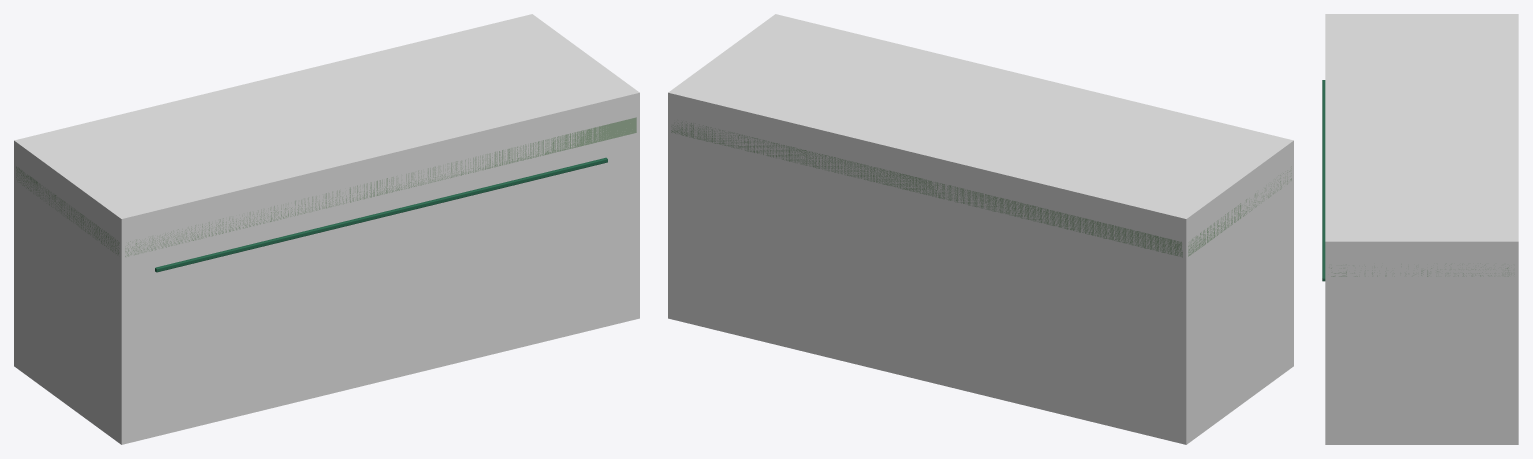
File: checkout-counter_retail.glb
The picture shows the model from 3 angles, left to right: view 1: azimuth 30°, elevation 25°; view 2: azimuth 150°, elevation 25°; view 3: azimuth 270°, elevation 25°; orthographic projection. The views are drawn at different scales.
Visible parts, largest first — view 1: COL_checkout-counter, MESH_Worktop, MESH_TierTrim_01; view 2: COL_checkout-counter, MESH_Worktop; view 3: COL_checkout-counter, MESH_TierTrim_01, MESH_Worktop.
Boxes of the visible parts, x1,y1,x2,y2 form: COL_checkout-counter: [14, 14, 639, 444]; MESH_Worktop: [16, 117, 636, 256]; MESH_TierTrim_01: [155, 157, 607, 272]; COL_checkout-counter: [668, 14, 1293, 444]; MESH_Worktop: [671, 121, 1291, 257]; COL_checkout-counter: [1325, 14, 1518, 444]; MESH_TierTrim_01: [1322, 80, 1325, 281]; MESH_Worktop: [1329, 263, 1514, 276].
Bounding box in the file's own units: 2.45 × 1.02 × 0.893.
